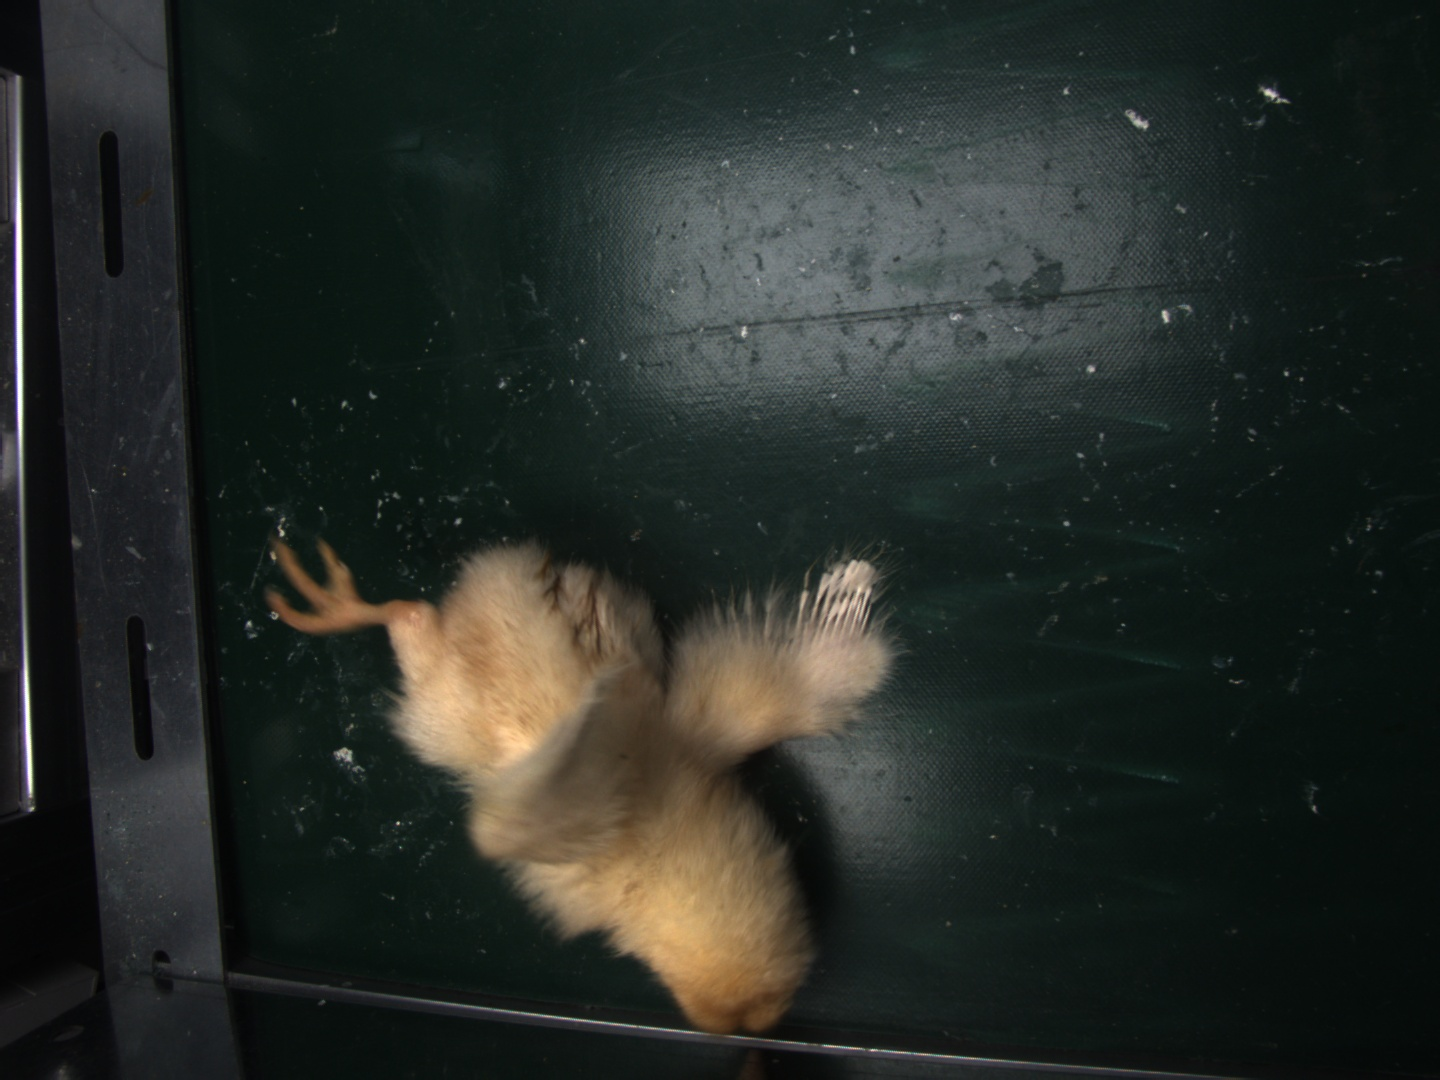female: (807, 560, 890, 630)
